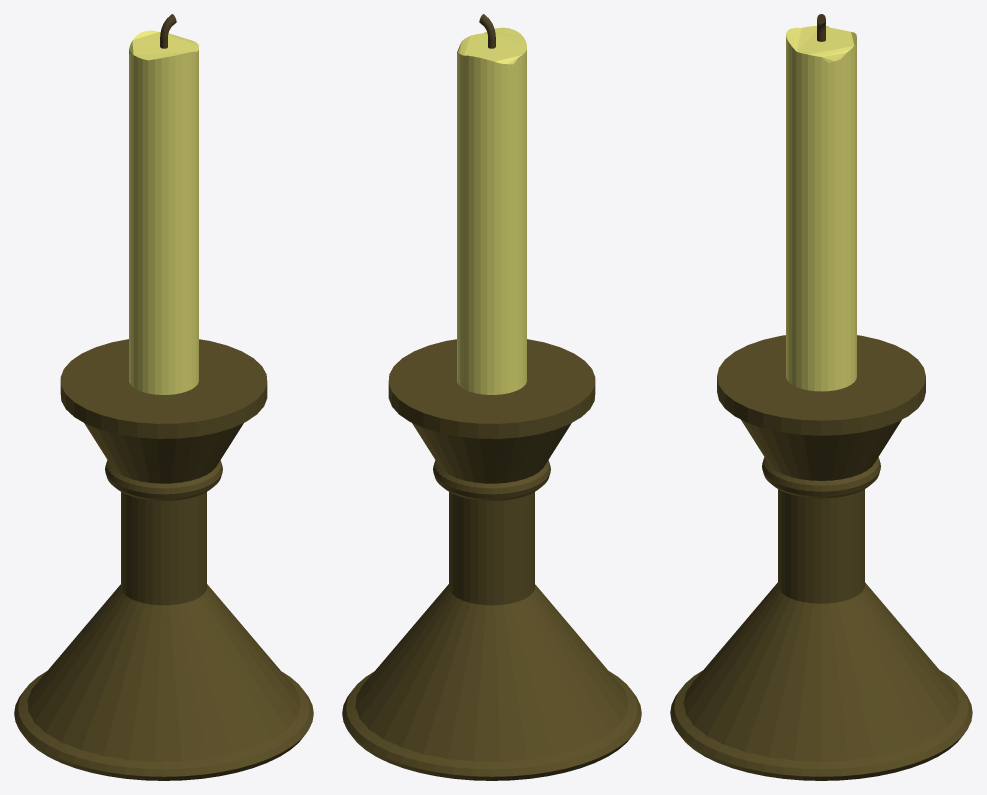
File: candle.glb
The picture shows the model from 3 angles, left to right: view 1: azimuth 30°, elevation 25°; view 2: azimuth 150°, elevation 25°; view 3: azimuth 270°, elevation 25°; orthographic projection.
Visible parts, largest first — view 1: Cone, Cylinder, Cone.001, Torus.001, Torus; view 2: Cone, Cylinder, Cone.001, Torus.001, Torus; view 3: Cone, Cylinder, Cone.001, Torus.001, Torus.
Part boxes in pixels (left/top/right/bottom): Cone: left=27, top=492, right=300, bottom=761; Cylinder: left=129, top=30, right=198, bottom=394; Cone.001: left=60, top=339, right=267, bottom=483; Torus.001: left=14, top=671, right=313, bottom=780; Torus: left=105, top=460, right=222, bottom=500; Cone: left=355, top=492, right=628, bottom=761; Cylinder: left=457, top=27, right=526, bottom=394; Cone.001: left=388, top=339, right=595, bottom=483; Torus.001: left=342, top=671, right=641, bottom=780; Torus: left=433, top=460, right=550, bottom=500; Cone: left=683, top=489, right=959, bottom=761; Cylinder: left=786, top=26, right=856, bottom=391; Cone.001: left=717, top=335, right=925, bottom=480; Torus.001: left=670, top=670, right=972, bottom=780; Torus: left=762, top=457, right=880, bottom=498.
Bounding box in the file's own units: 2.74 × 7.15 × 2.74.
